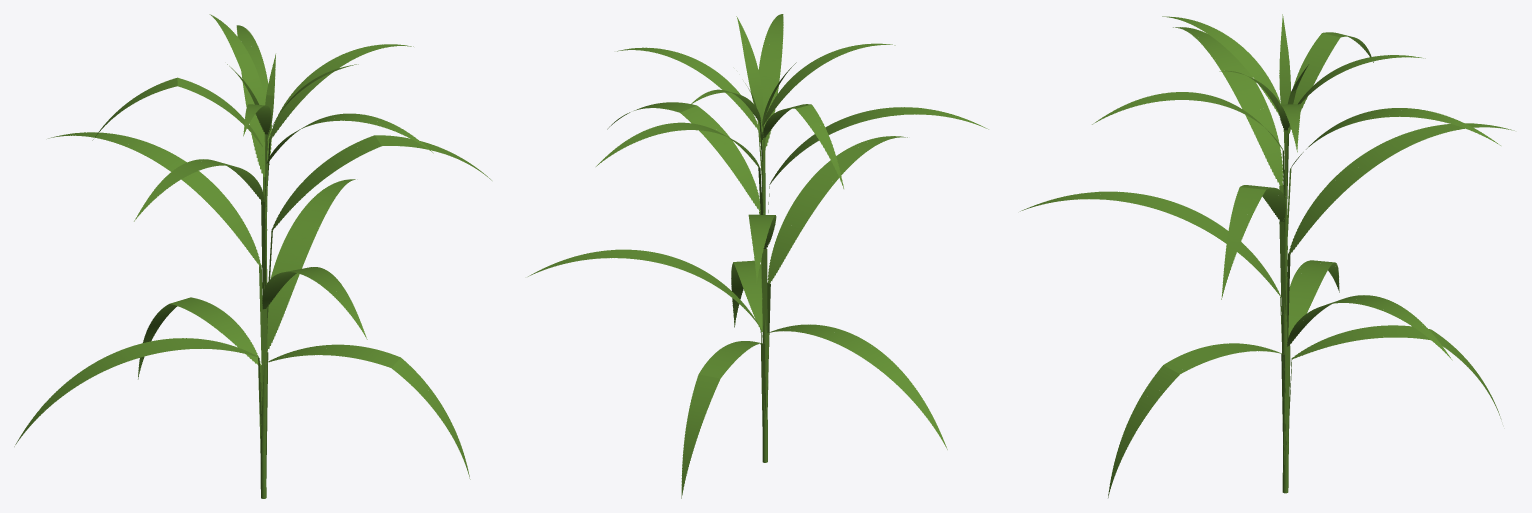
Rendered from maize_004_day_100.dae.
3 views of the same model, side by side, from view 1: azimuth 30°, elevation 25°; view 2: azimuth 150°, elevation 25°; view 3: azimuth 270°, elevation 25° (orthographic). The views are drawn at different scales.
Visible parts, largest first — view 1: node; view 2: node; view 3: node.
Part boxes in pixels (x1=…): node: x1=14, y1=14, x2=491, y2=498; node: x1=528, y1=14, x2=988, y2=498; node: x1=1020, y1=14, x2=1514, y2=497.
Bounding box in the file's own units: 1.71 × 1.72 × 1.7.
1 material, 1 textured.
